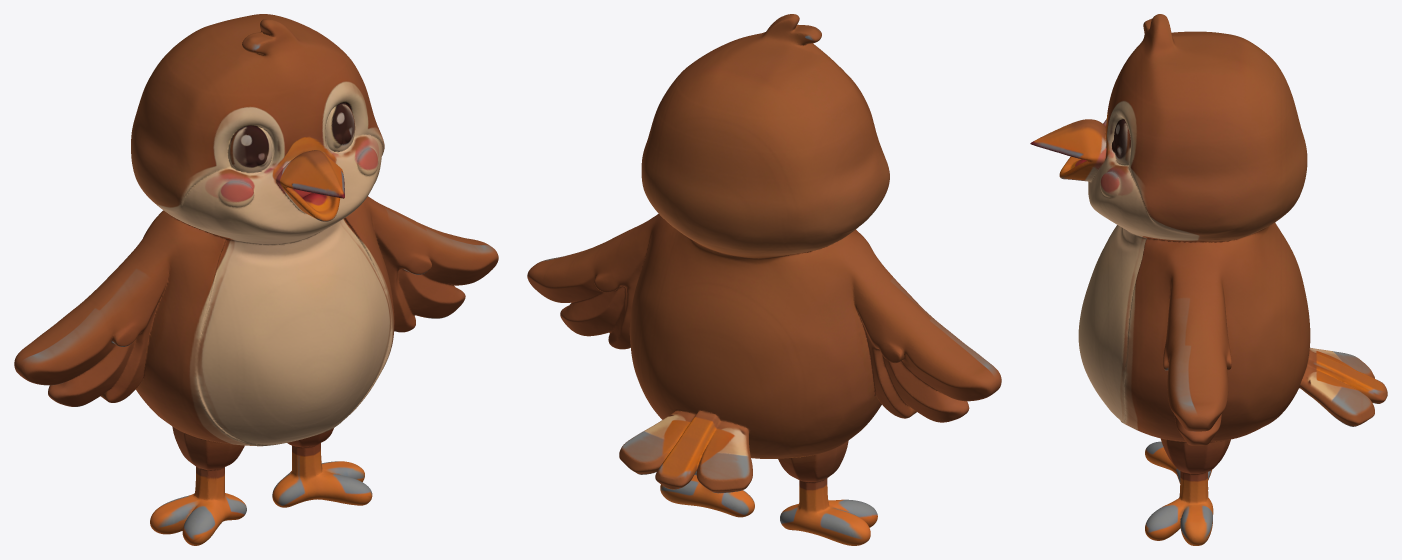
File: sparrow_character_highres.glb
The picture shows the model from 3 angles, left to right: view 1: azimuth 30°, elevation 25°; view 2: azimuth 150°, elevation 25°; view 3: azimuth 270°, elevation 25°; orthographic projection. The views are drawn at different scales.
Visible parts, largest first — view 1: tripo_node_3c412e4f-1a91-4389-8002-ef054240985a; view 2: tripo_node_3c412e4f-1a91-4389-8002-ef054240985a; view 3: tripo_node_3c412e4f-1a91-4389-8002-ef054240985a.
Part boxes in pixels (<box>): tripo_node_3c412e4f-1a91-4389-8002-ef054240985a: <box>14,14,498,545</box>; tripo_node_3c412e4f-1a91-4389-8002-ef054240985a: <box>527,14,1001,545</box>; tripo_node_3c412e4f-1a91-4389-8002-ef054240985a: <box>1030,14,1387,545</box>.
Size of the model in its own units: 0.9836 by 1 by 0.6717.
1 material, 1 textured.
